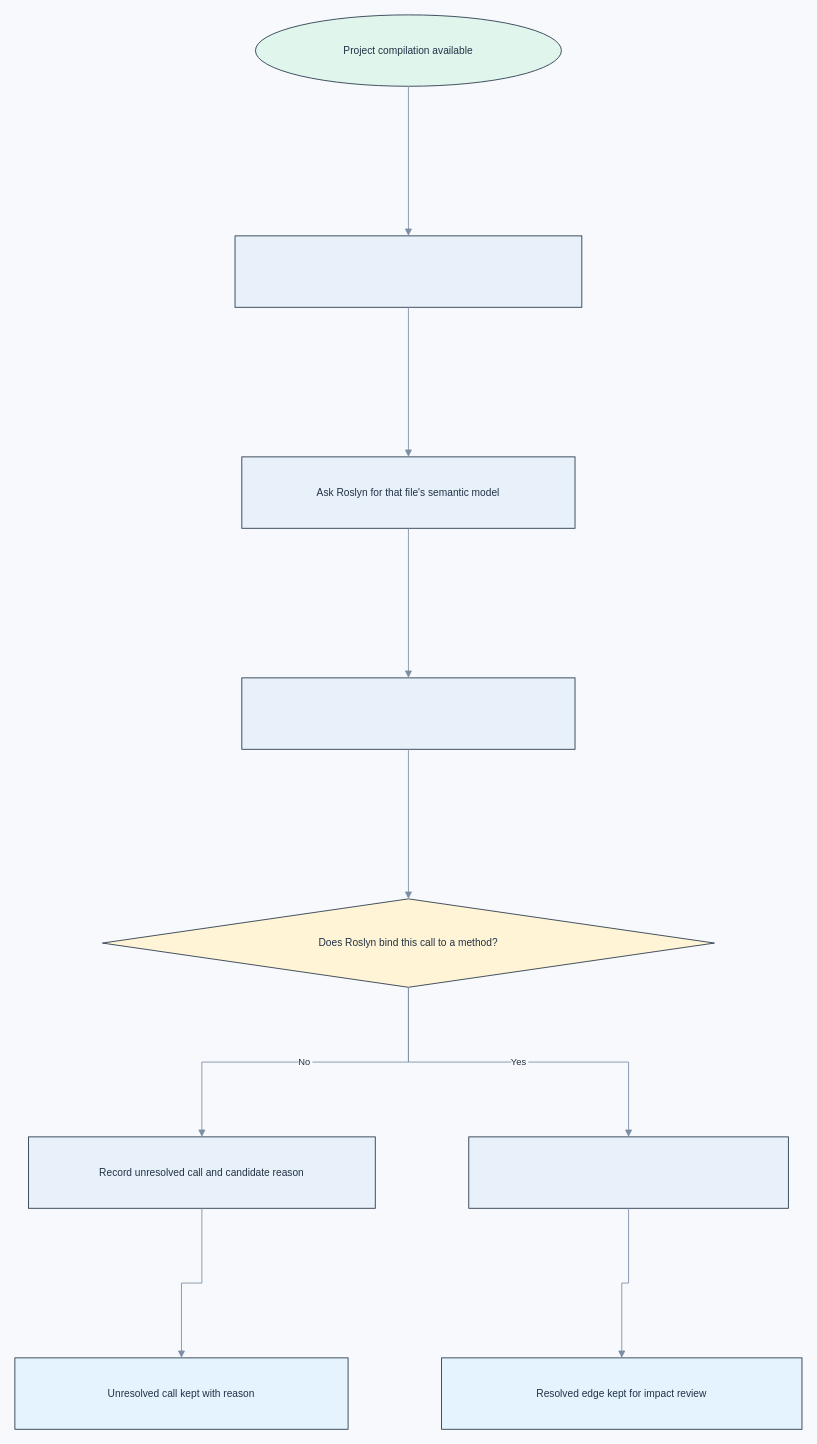
Image size: 817x1444. Some labels were removed from this diagram. The shapes that lost their labels are listed below. From the top down, each one's centre as x and y in pixels, then its label:
[408,271]: Visit each source file in the project
[408,713]: Find declarations and call expressions
[628,1172]: Record target symbol and source location
